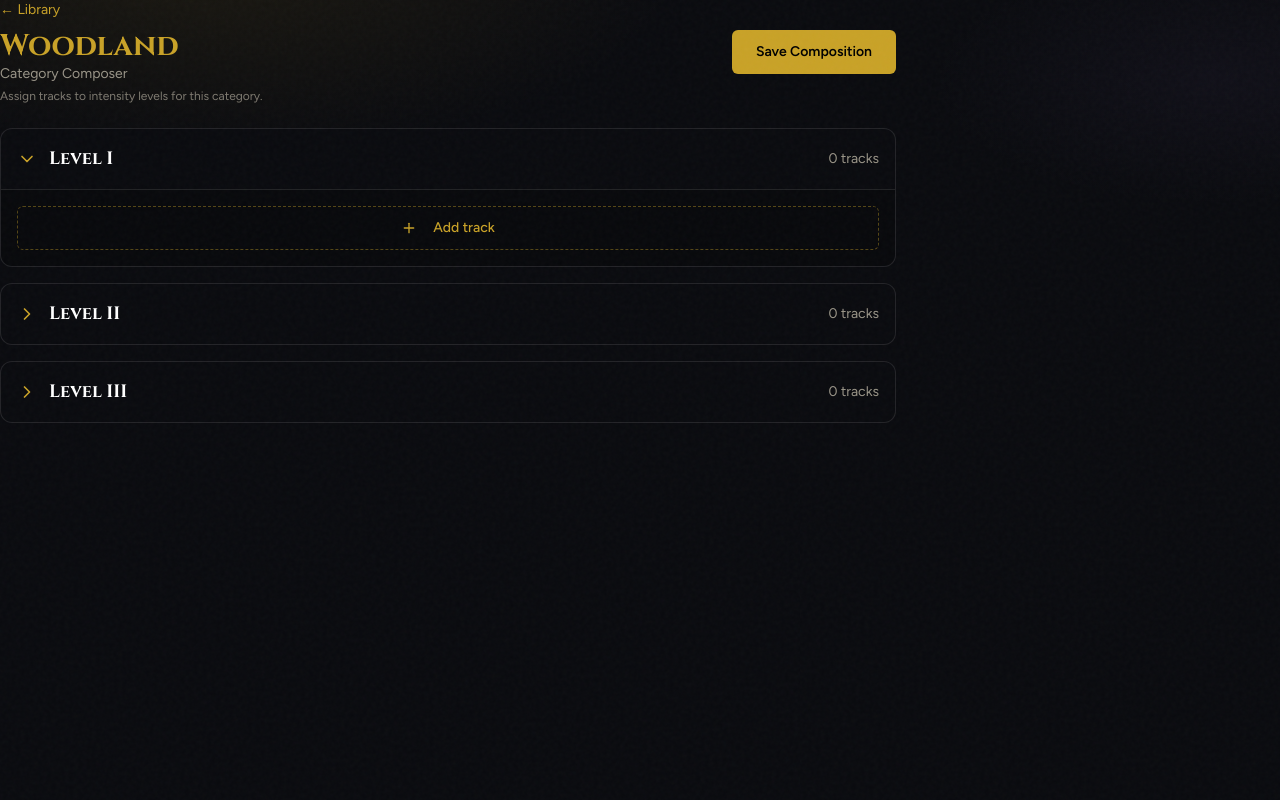
Test case: CategoryComposerPage track picker › selects from the checkbox without starting a preview
Step 1. Click the button "Add track" → x=448, y=228, box [17,206,879,250]
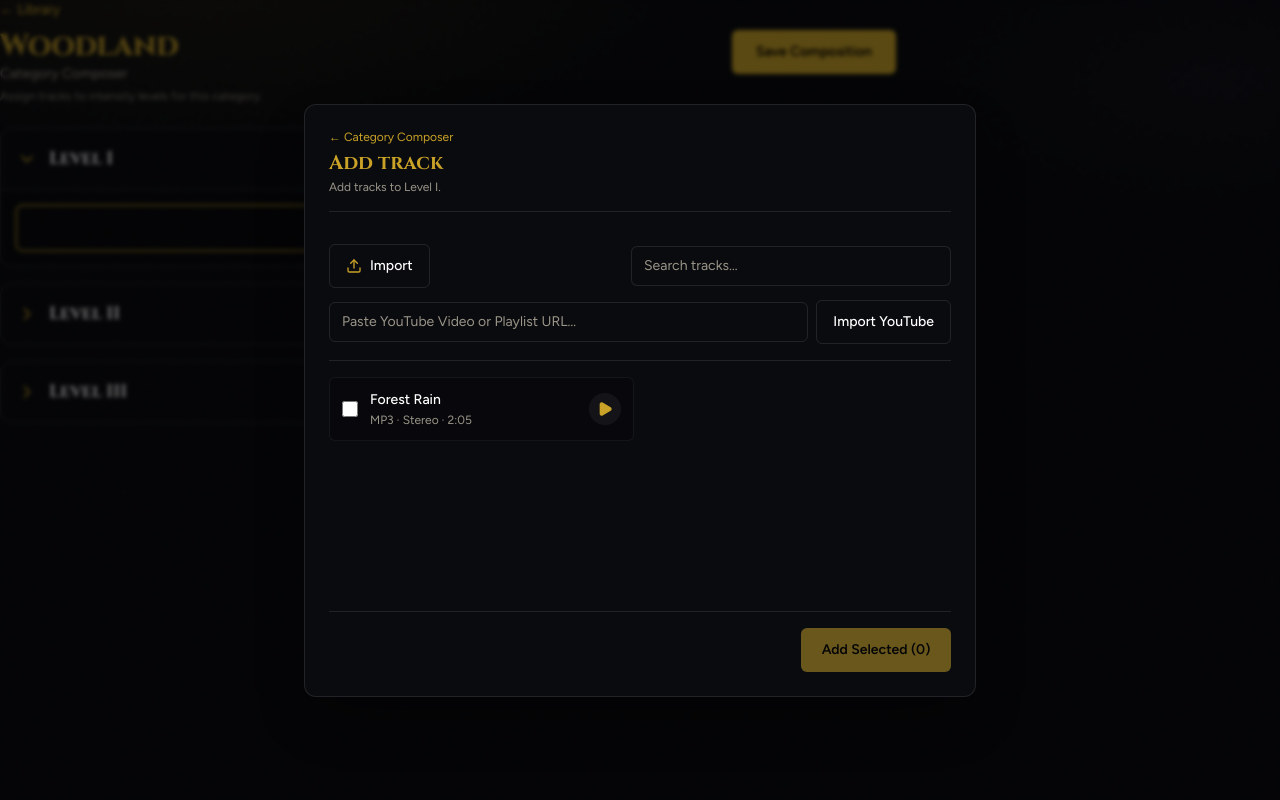
Step 2. Click the checkbox → x=350, y=408, box [342,400,358,416]
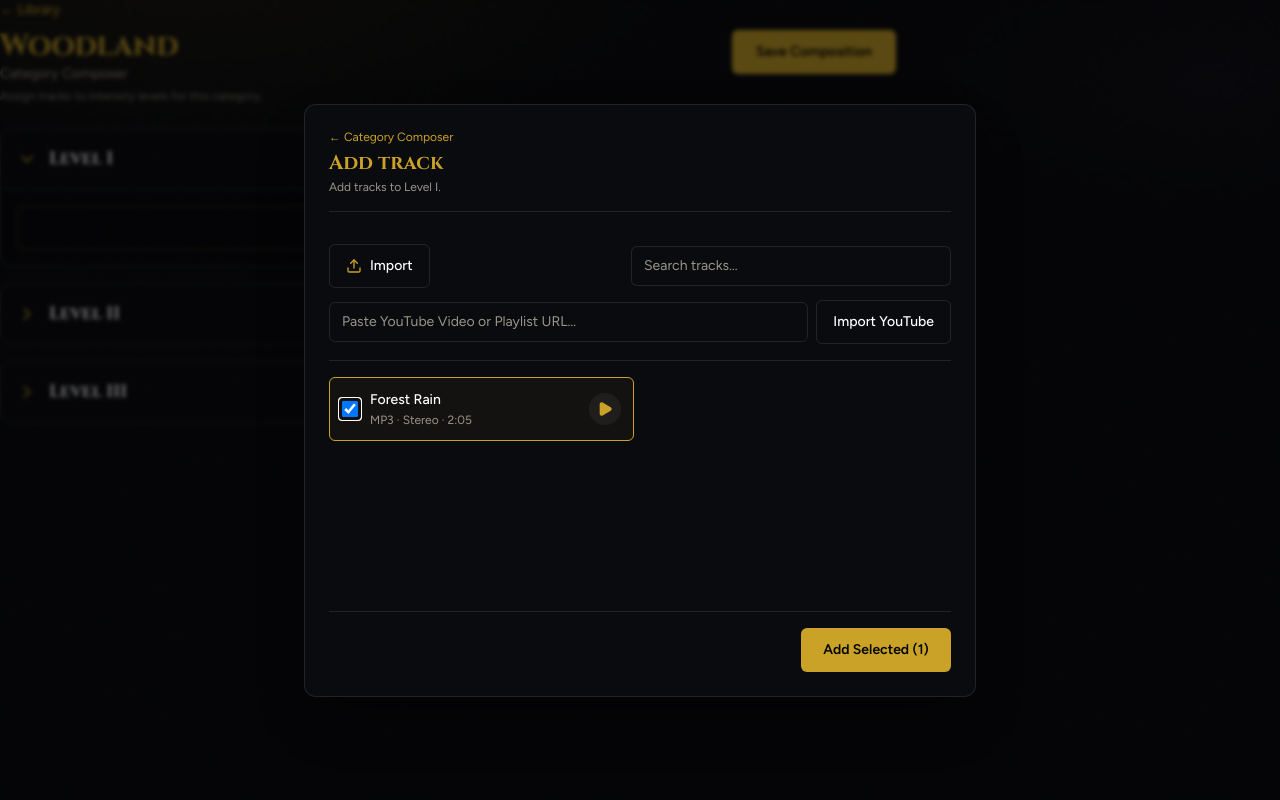
Expected: the checkbox is checked, [342,400,358,416]
Expected: the button "Add Selected (1)" is enabled, [801,628,951,672]
